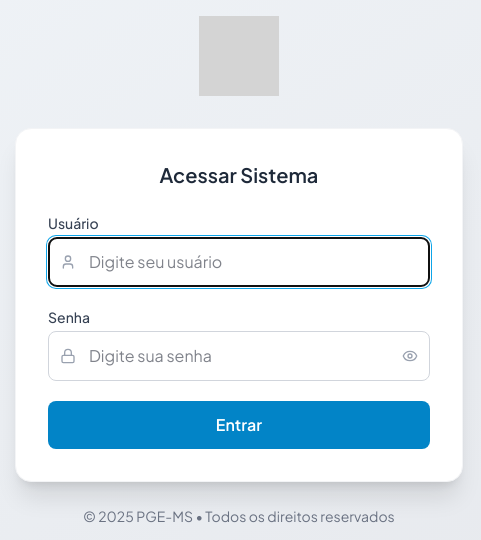
LoginPage › deve exibir "Entrando..." durante o carregamento
The image size is (481, 540).
Step 1. Type "admin" into the field labelled "Usuário" → (239, 262), box [48,237,430,287]
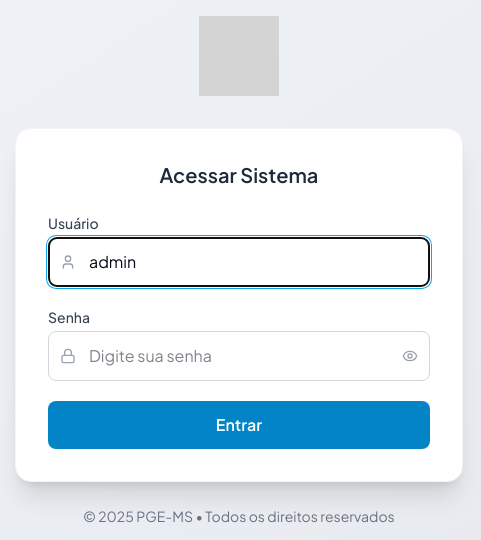
Step 2. Type "senha123" into the password field labelled "Senha" → (239, 356), box [48,331,430,381]
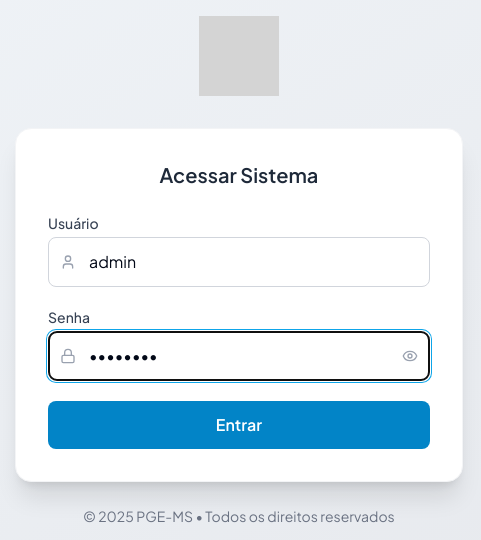
Step 3. Click the button "Entrar" → (239, 425), box [48,401,430,449]
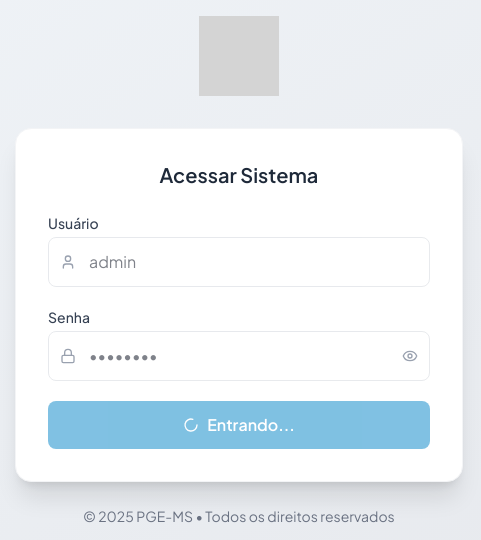
Now the text "Entrando..." is shown, box [207,413,295,437]
